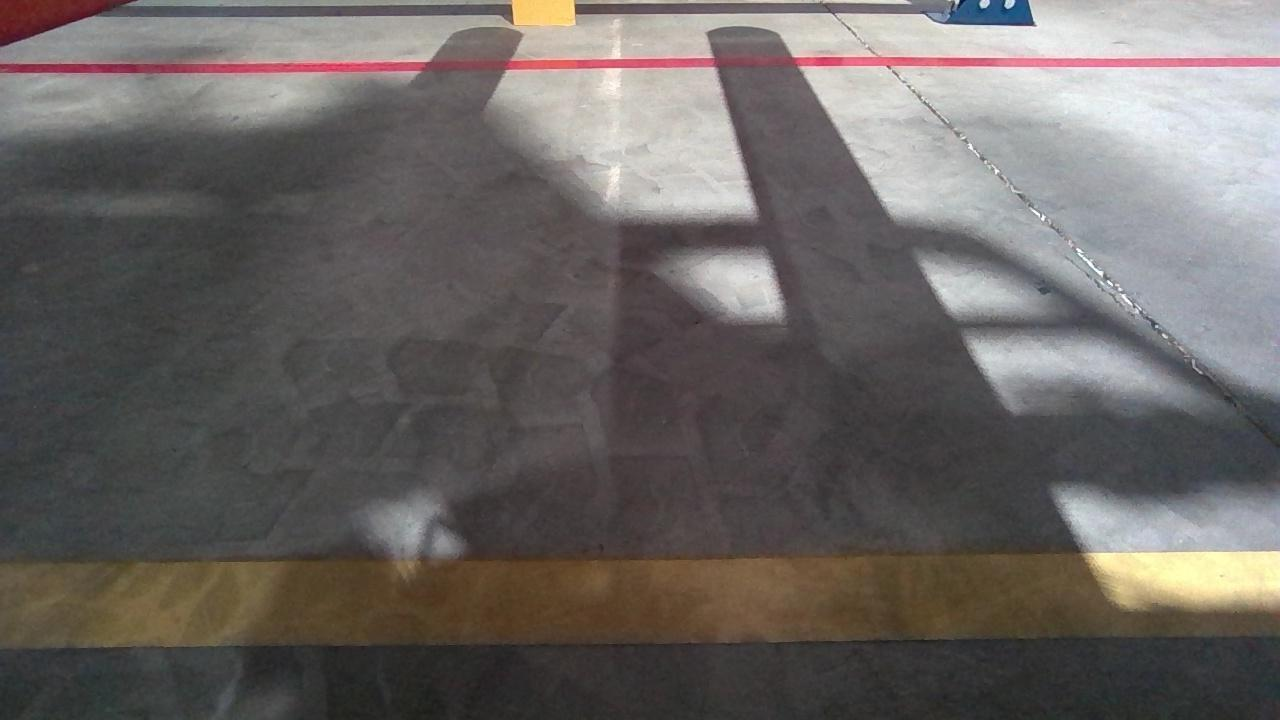red_line: (2, 54, 1280, 76)
yellow_line: (0, 553, 1280, 643)
